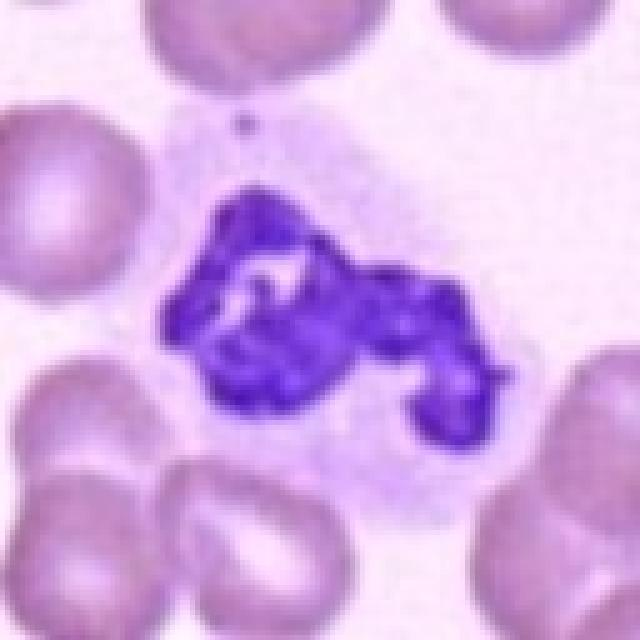neutro: (171, 105, 604, 562)
